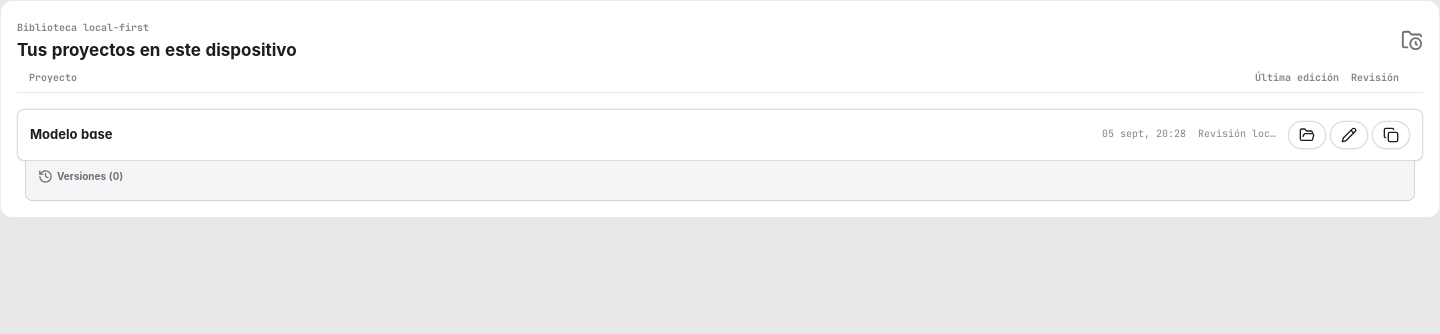
Test case: ProjectHub › duplicates a project without hiding the original
Expected: the text "Modelo base" is shown, top-left (30, 126), bottom-right (112, 142)
Click the button named "Duplicar Modelo base" at (1391, 135), box top-left (1372, 121), bottom-right (1410, 149)
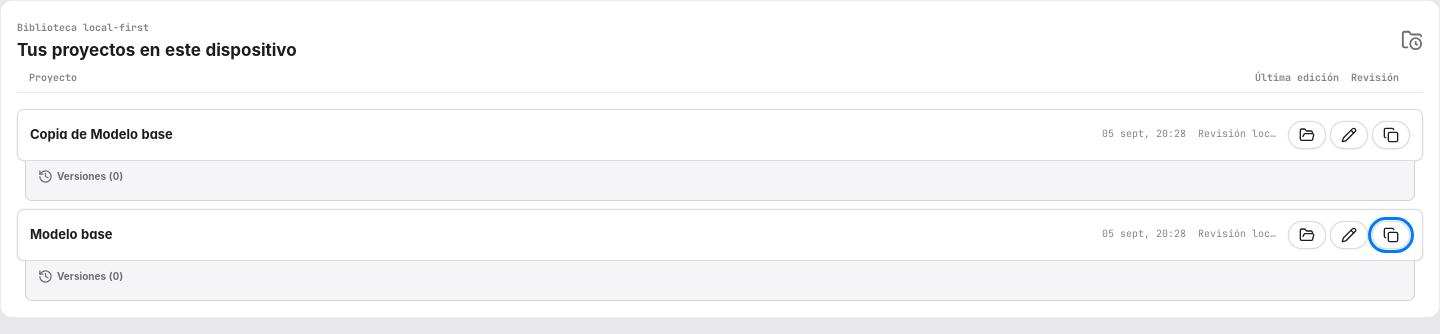
Expected: the text "Modelo base" is shown, top-left (30, 226), bottom-right (112, 242)
Result: the text "Copia de Modelo base" is shown at top-left (30, 126), bottom-right (173, 142)
